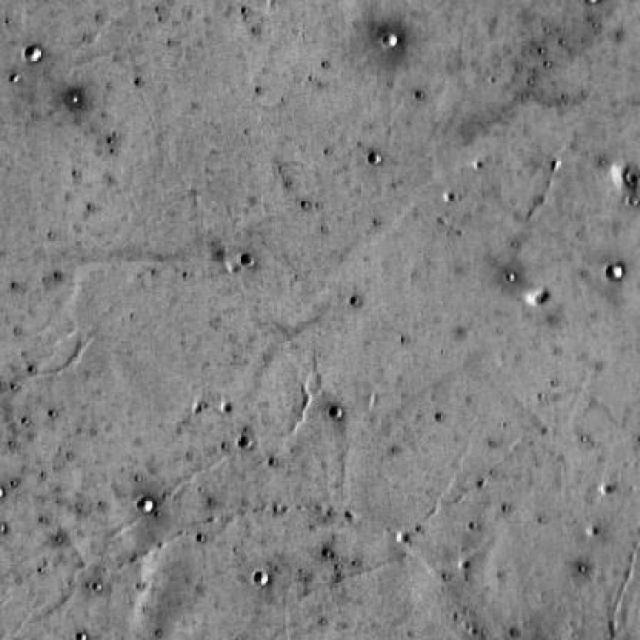crater: (608, 264, 626, 282), (27, 45, 44, 61)
